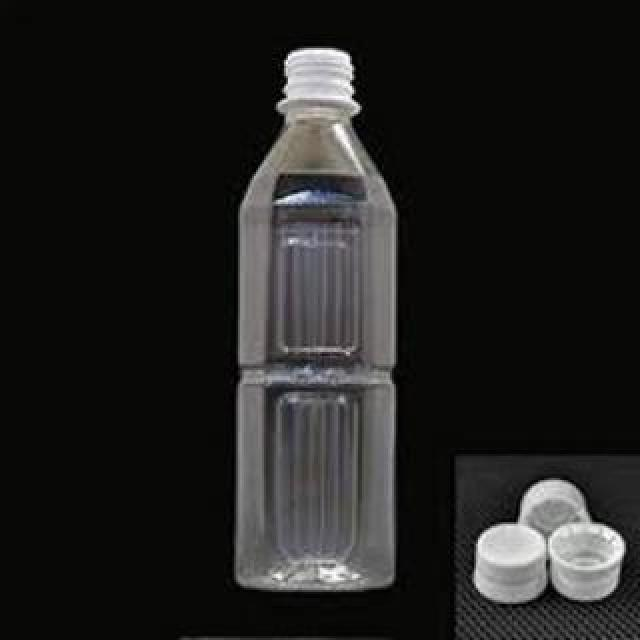Pet_Bottle: (225, 42, 409, 596)
